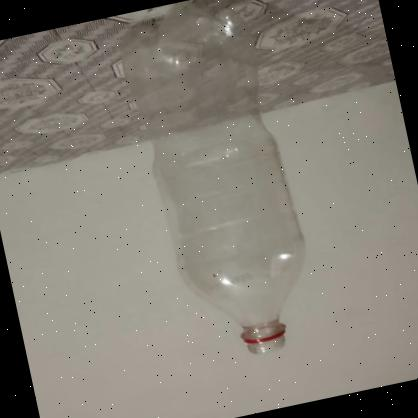bottle: (116, 0, 325, 371)
